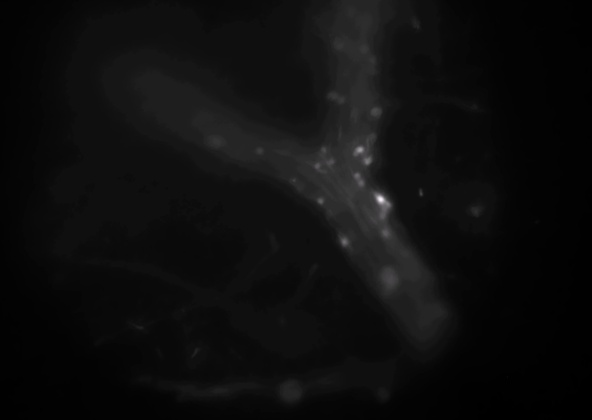cell: (374, 193, 388, 207), (352, 141, 366, 155), (370, 105, 384, 119), (347, 147, 361, 161), (362, 154, 376, 168), (315, 143, 329, 157), (310, 158, 324, 172), (324, 154, 338, 168), (323, 88, 337, 102), (348, 170, 362, 184), (334, 91, 348, 105), (353, 176, 367, 190), (336, 235, 350, 249), (382, 272, 396, 286), (382, 227, 396, 241), (382, 198, 396, 212), (376, 206, 390, 220), (377, 203, 391, 217), (313, 195, 327, 209), (285, 174, 299, 188), (254, 145, 268, 159), (207, 134, 221, 148), (358, 43, 372, 57), (366, 54, 380, 68), (333, 38, 347, 52), (366, 129, 380, 143)
